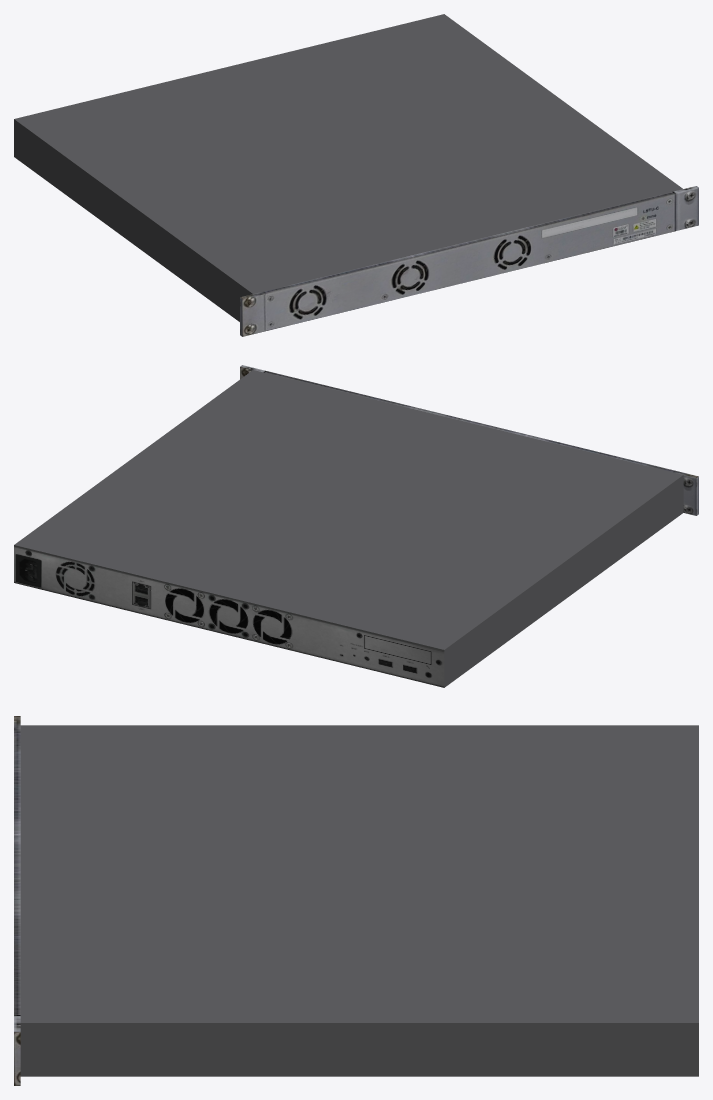
Rendered from Samsung_DU30.fbx.
3 views of the same model, one above another, from view 1: azimuth 30°, elevation 25°; view 2: azimuth 150°, elevation 25°; view 3: azimuth 270°, elevation 25° (orthographic). The views are drawn at different scales.
Parts seen in each view (by area): view 1: Samsung/DU30; view 2: Samsung/DU30; view 3: Samsung/DU30.
Boxes of the visible parts, box(x1,y1,x2,y2) form: Samsung/DU30: box(14, 14, 698, 336); Samsung/DU30: box(14, 365, 698, 687); Samsung/DU30: box(14, 716, 698, 1085).
Size of the model in its own units: 560 by 44.45 by 513.
3 materials, 2 textured.
